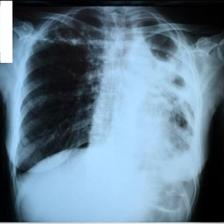tuberculosis: (13, 7, 196, 224)
